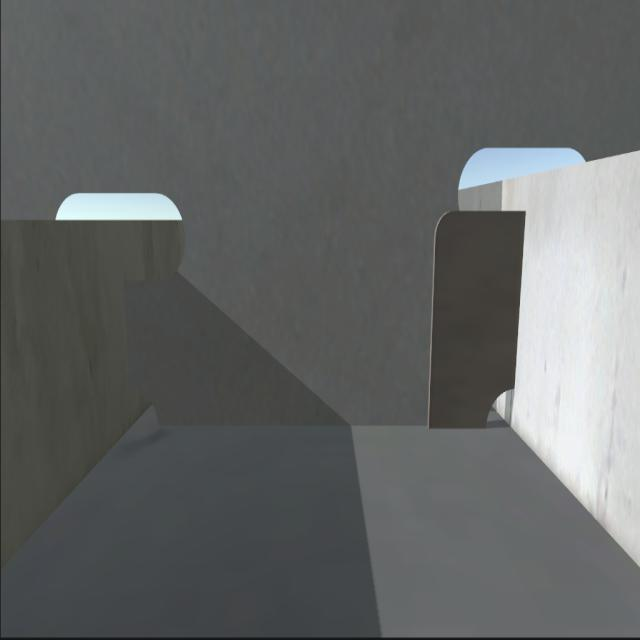fillet_hole: (485, 379, 519, 428), (126, 381, 160, 429)
fillet_yong_jeop_jang: (155, 414, 485, 434)
longi_yong_jeop_jang: (510, 210, 526, 390), (118, 283, 140, 399)
plate_CP05: (434, 207, 520, 425)
